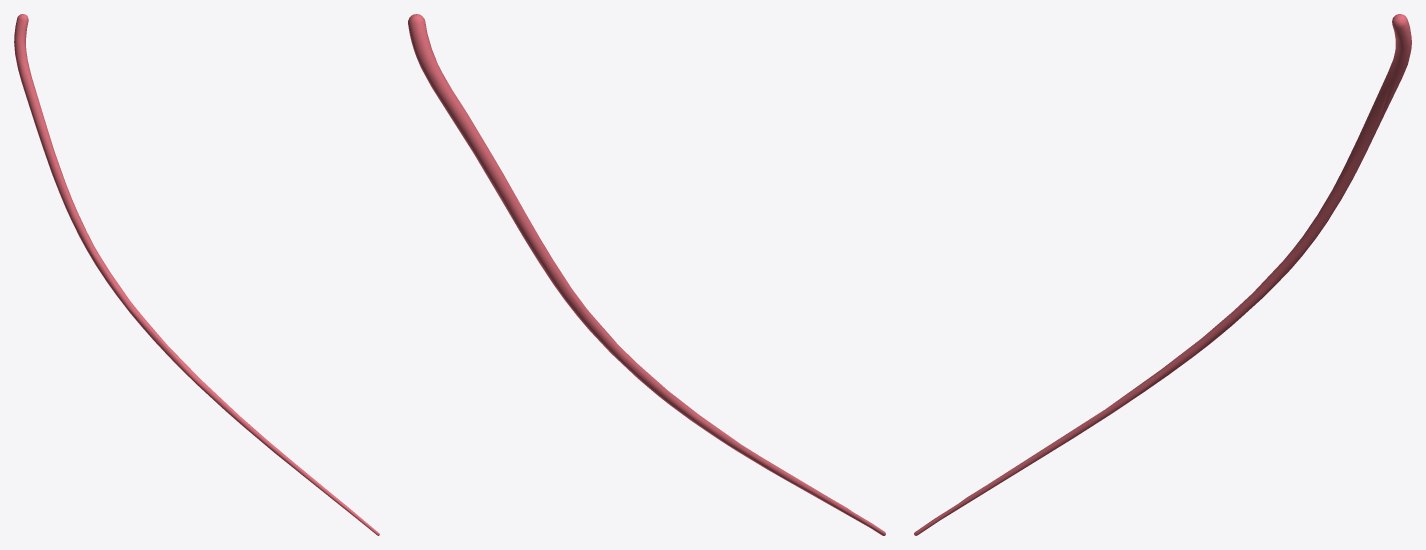
Rendered from fma22777_fj2363.glb.
3 views of the same model, side by side, from view 1: azimuth 90°, elevation 25°; view 2: azimuth 150°, elevation 25°; view 3: azimuth 270°, elevation 25° (orthographic). The views are drawn at different scales.
Visible parts, largest first — view 1: FMA22777_FJ2363; view 2: FMA22777_FJ2363; view 3: FMA22777_FJ2363.
Part boxes in pixels (left/top/right/bottom): FMA22777_FJ2363: left=14, top=14, right=379, bottom=535; FMA22777_FJ2363: left=408, top=14, right=885, bottom=535; FMA22777_FJ2363: left=914, top=14, right=1411, bottom=535.
Bounding box in the file's own units: 0.021 × 0.0612 × 0.0448.
